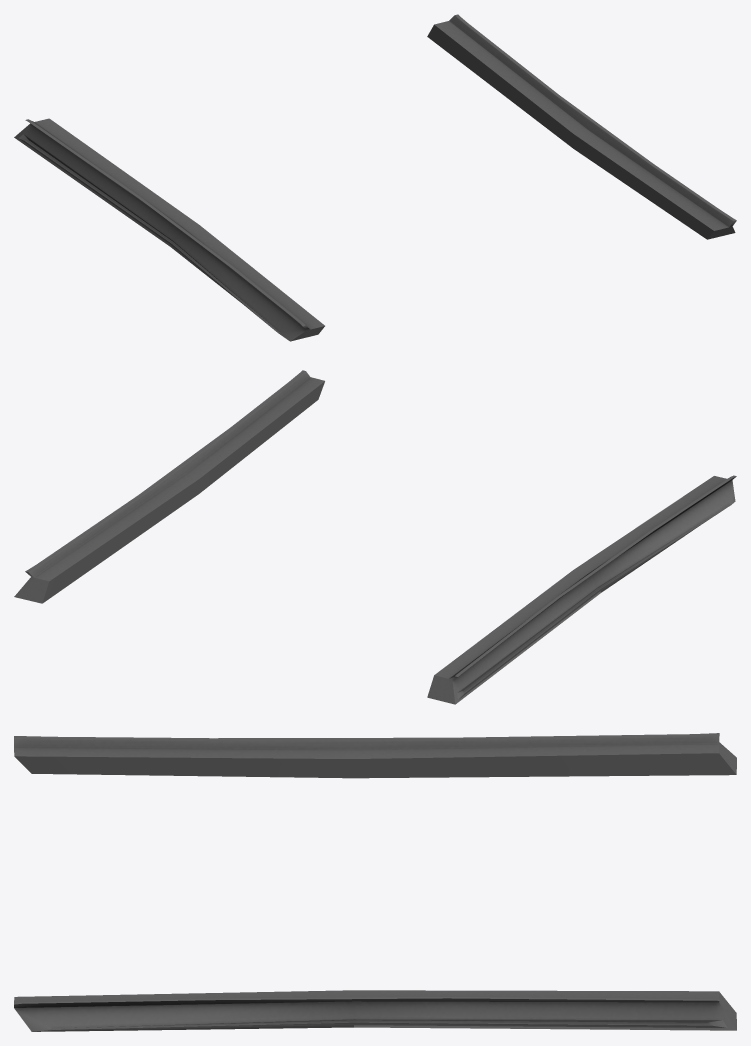
Rendered from Sport_2_Sidepanel_2.fbx.
The picture shows the model from 3 angles, top to bottom: view 1: azimuth 30°, elevation 25°; view 2: azimuth 150°, elevation 25°; view 3: azimuth 270°, elevation 25°; orthographic projection. The views are drawn at different scales.
Visible parts, largest first — view 1: Sport_2_Sidepanel_2; view 2: Sport_2_Sidepanel_2; view 3: Sport_2_Sidepanel_2.
Part boxes in pixels (x1=…): Sport_2_Sidepanel_2: x1=14, y1=14, x2=736, y2=341; Sport_2_Sidepanel_2: x1=14, y1=370, x2=736, y2=704; Sport_2_Sidepanel_2: x1=14, y1=733, x2=736, y2=1031.
Bounding box in the file's own units: 182 × 8.23 × 198.
